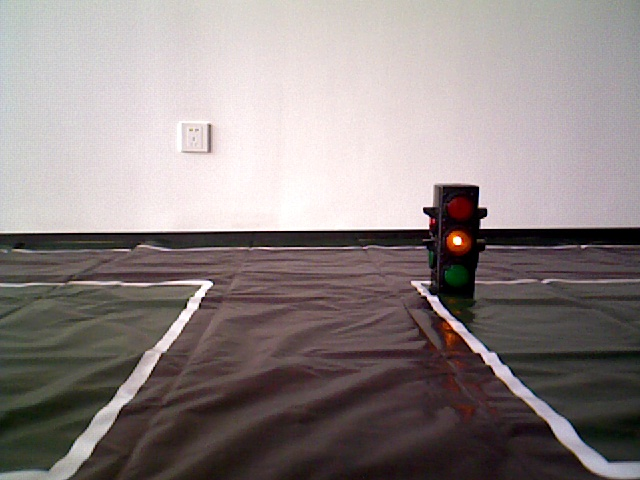yellow: (429, 181, 481, 293)
